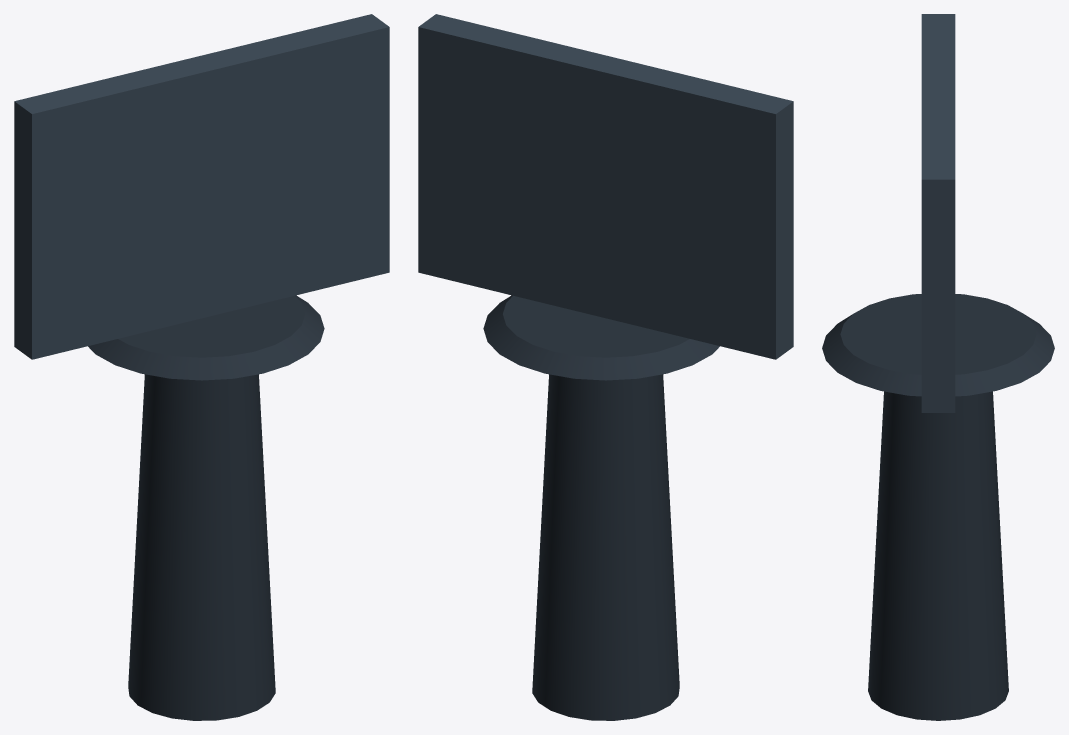
Rendered from bedside.glb.
3 renders of one model, left to right at view 1: azimuth 30°, elevation 25°; view 2: azimuth 150°, elevation 25°; view 3: azimuth 270°, elevation 25°, orthographic. The views are drawn at different scales.
Visible parts, largest first — view 1: merged-deviceMid, merged-deviceDark; view 2: merged-deviceMid, merged-deviceDark; view 3: merged-deviceDark, merged-deviceMid.
Boxes of the visible parts, bbox=[...] form: merged-deviceMid: bbox=[14, 14, 389, 359]; merged-deviceDark: bbox=[88, 295, 324, 720]; merged-deviceMid: bbox=[418, 14, 793, 359]; merged-deviceDark: bbox=[483, 295, 719, 720]; merged-deviceDark: bbox=[822, 294, 1054, 720]; merged-deviceMid: bbox=[921, 14, 955, 412].
Bounding box in the file's own units: 0.64 × 1.07 × 0.38.
